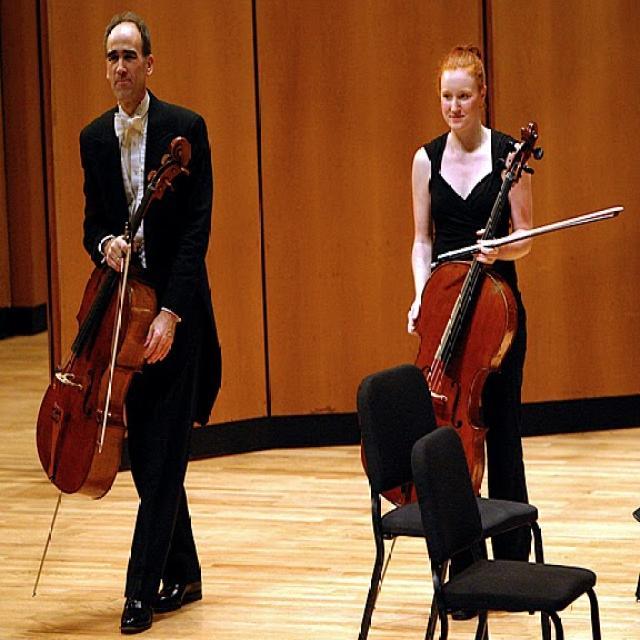cello: (358, 120, 546, 514), (33, 134, 193, 504)
